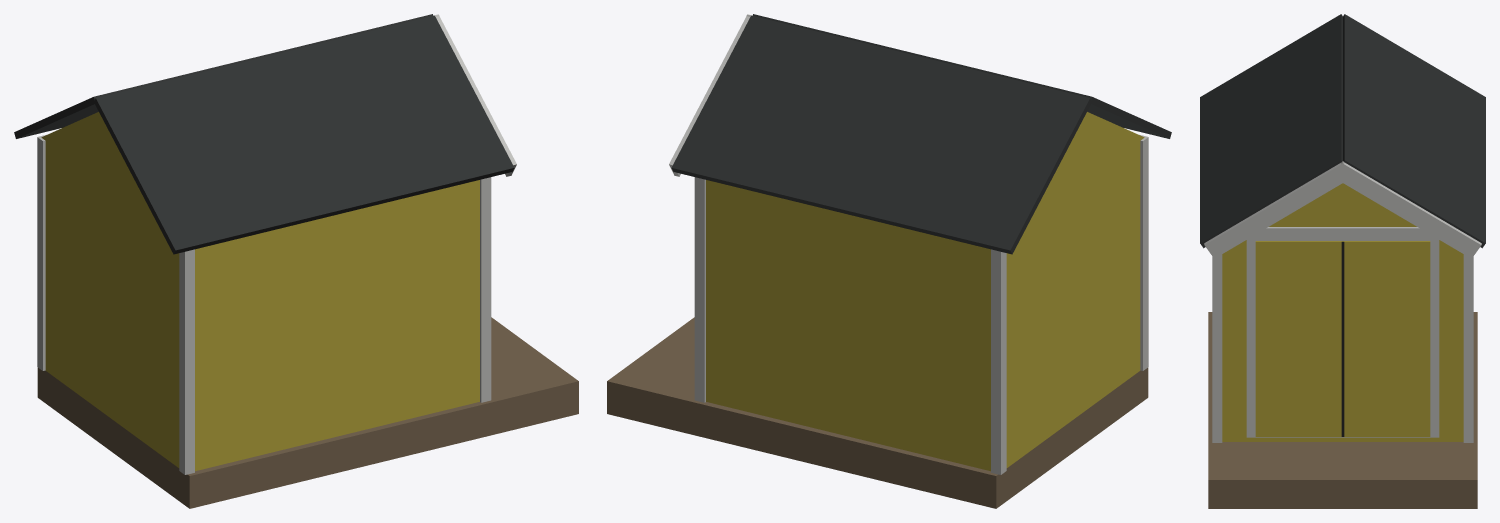
The model's file is SM_Prop_coast_beachhut_1_LOD1.glb.
3 renders of one model, left to right at view 1: azimuth 30°, elevation 25°; view 2: azimuth 150°, elevation 25°; view 3: azimuth 270°, elevation 25°, orthographic. The views are drawn at different scales.
Visible parts, largest first — view 1: SM_Prop_coast_beachhut_1_LOD1; view 2: SM_Prop_coast_beachhut_1_LOD1; view 3: SM_Prop_coast_beachhut_1_LOD1.
Part boxes in pixels (x1,y1,x2,y2): SM_Prop_coast_beachhut_1_LOD1: [14, 14, 578, 508]; SM_Prop_coast_beachhut_1_LOD1: [607, 14, 1171, 508]; SM_Prop_coast_beachhut_1_LOD1: [1200, 14, 1485, 508].
Bounding box in the file's own units: 3.25 × 2.74 × 2.23.
